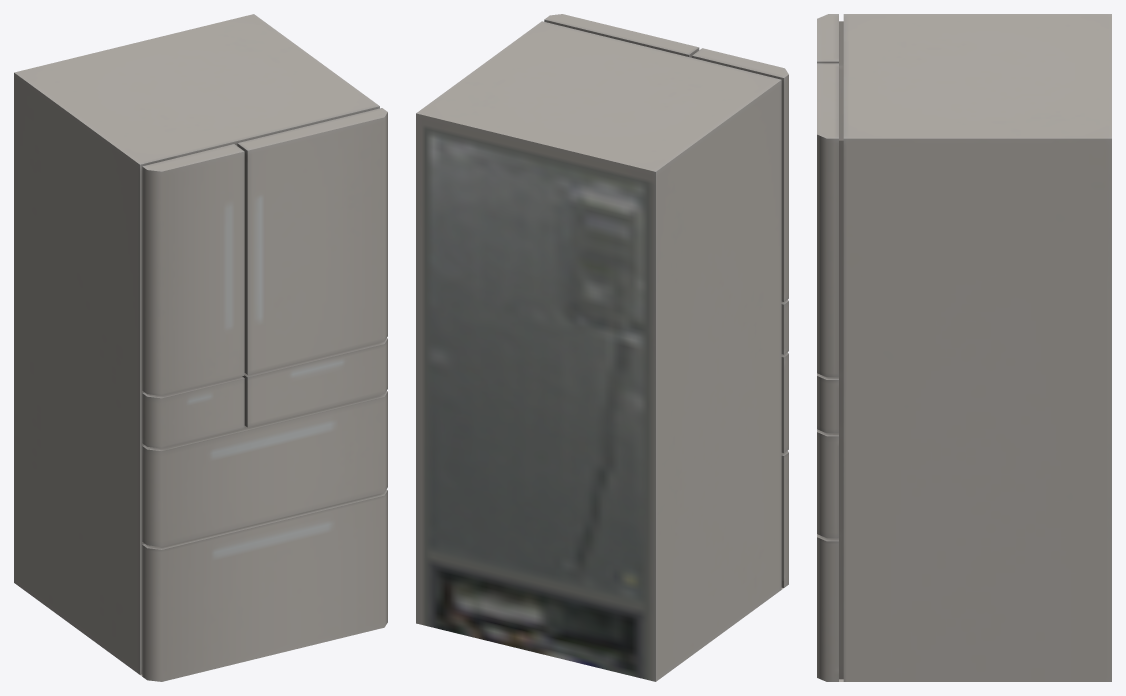
The model's file is sb_obj_ModernCity074_refrigerator.fbx.
The picture shows the model from 3 angles, left to right: view 1: azimuth 30°, elevation 25°; view 2: azimuth 150°, elevation 25°; view 3: azimuth 270°, elevation 25°; orthographic projection. The views are drawn at different scales.
Parts seen in each view (by area): view 1: sb_obj_ModernCity074_refrigerator; view 2: sb_obj_ModernCity074_refrigerator; view 3: sb_obj_ModernCity074_refrigerator.
Boxes of the visible parts, <box> form: sb_obj_ModernCity074_refrigerator: <box>14,14,387,681</box>; sb_obj_ModernCity074_refrigerator: <box>416,14,788,681</box>; sb_obj_ModernCity074_refrigerator: <box>817,14,1111,681</box>.
Bounding box in the file's own units: 0.6299 × 1.28 × 0.6299.
1 material, 1 textured.
